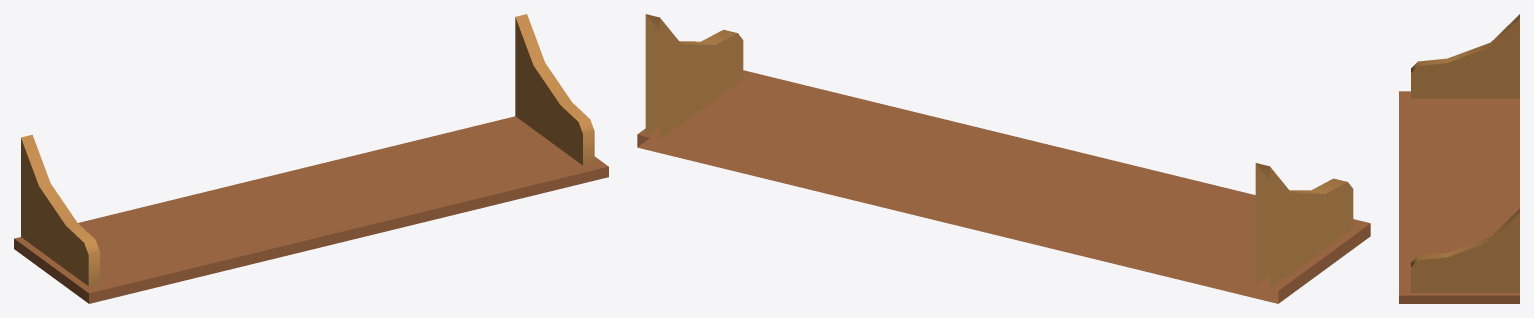
The model's file is Shelf.fbx.
The picture shows the model from 3 angles, left to right: view 1: azimuth 30°, elevation 25°; view 2: azimuth 150°, elevation 25°; view 3: azimuth 270°, elevation 25°; orthographic projection. The views are drawn at different scales.
Parts seen in each view (by area): view 1: Shelf_0; view 2: Shelf_0; view 3: Shelf_0.
Boxes of the visible parts, left/top/right/bottom form: Shelf_0: left=14, top=14, right=608, bottom=303; Shelf_0: left=637, top=14, right=1370, bottom=303; Shelf_0: left=1399, top=14, right=1519, bottom=303.
Bounding box in the file's own units: 2 × 0.4042 × 0.5.
